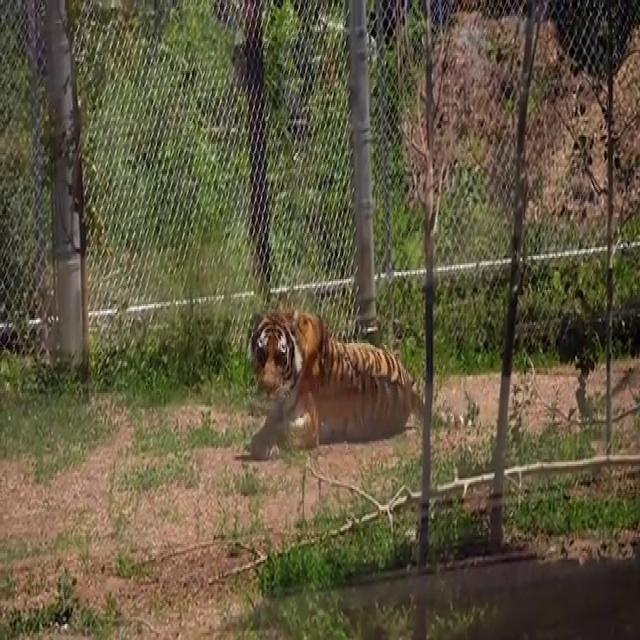tiger: (246, 306, 480, 459)
